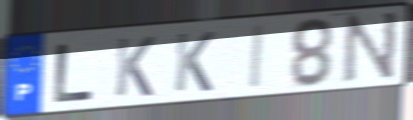8: (289, 15, 337, 91)
I: (247, 22, 268, 92)
K: (112, 34, 158, 99), (172, 29, 217, 94)
L: (52, 42, 98, 106)
N: (339, 9, 401, 86)
